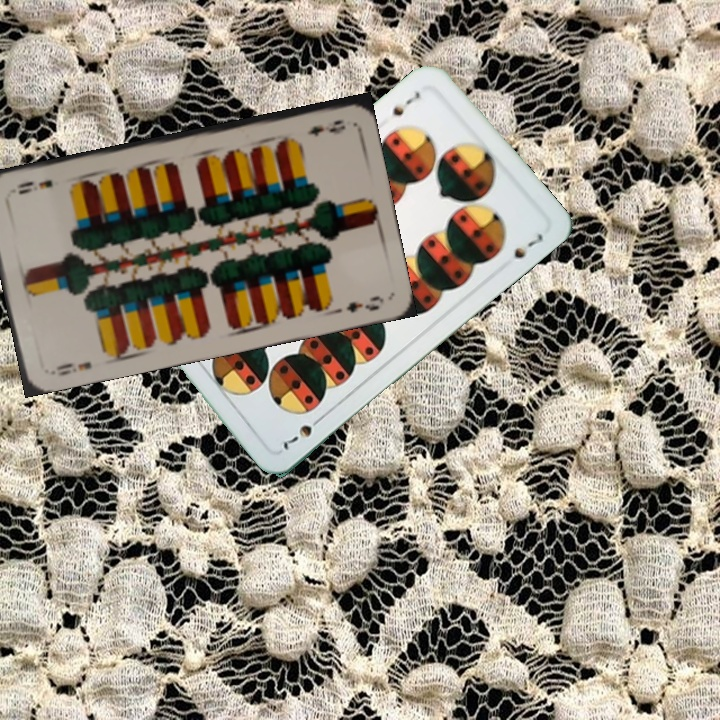E9: (45, 357, 94, 379), (303, 115, 348, 138)
S7: (276, 411, 327, 454), (388, 87, 423, 119)
